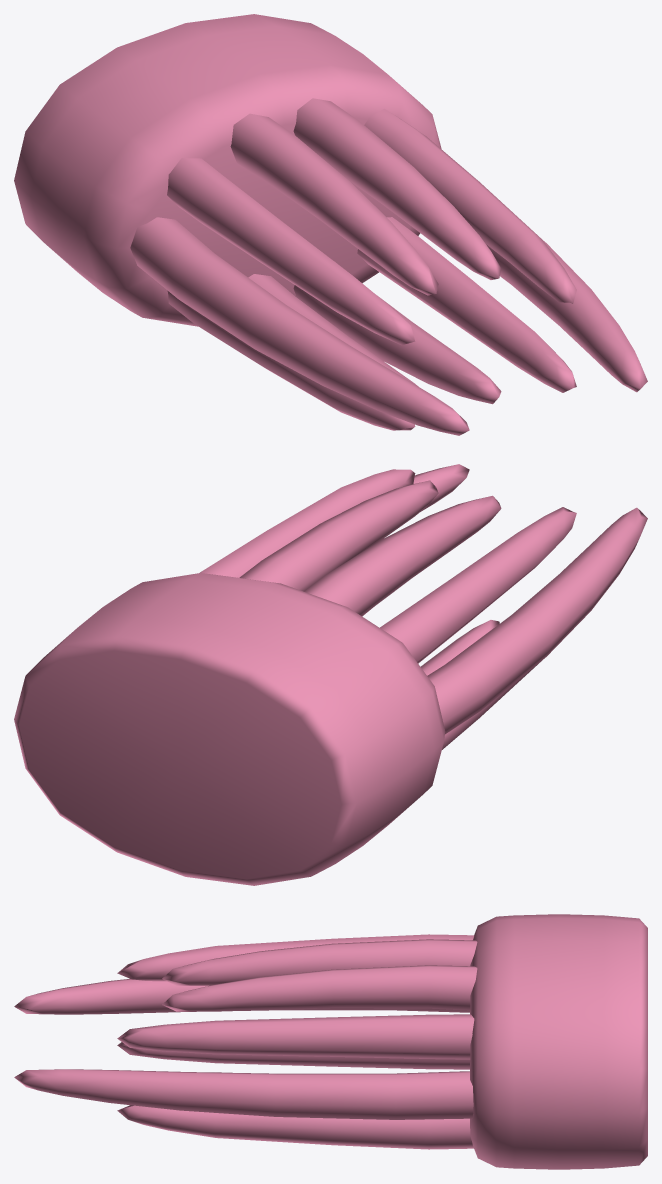
File: Squid_1_Half_2.fbx
The picture shows the model from 3 angles, top to bottom: view 1: azimuth 30°, elevation 25°; view 2: azimuth 150°, elevation 25°; view 3: azimuth 270°, elevation 25°; orthographic projection. The views are drawn at different scales.
Parts seen in each view (by area): view 1: Squid_1_Half_2; view 2: Squid_1_Half_2; view 3: Squid_1_Half_2.
Part boxes in pixels (x1=…): Squid_1_Half_2: x1=14, y1=14, x2=647, y2=435; Squid_1_Half_2: x1=14, y1=464, x2=647, y2=885; Squid_1_Half_2: x1=14, y1=914, x2=647, y2=1169.
Bounding box in the file's own units: 9.7 × 6.26 × 17.78.
